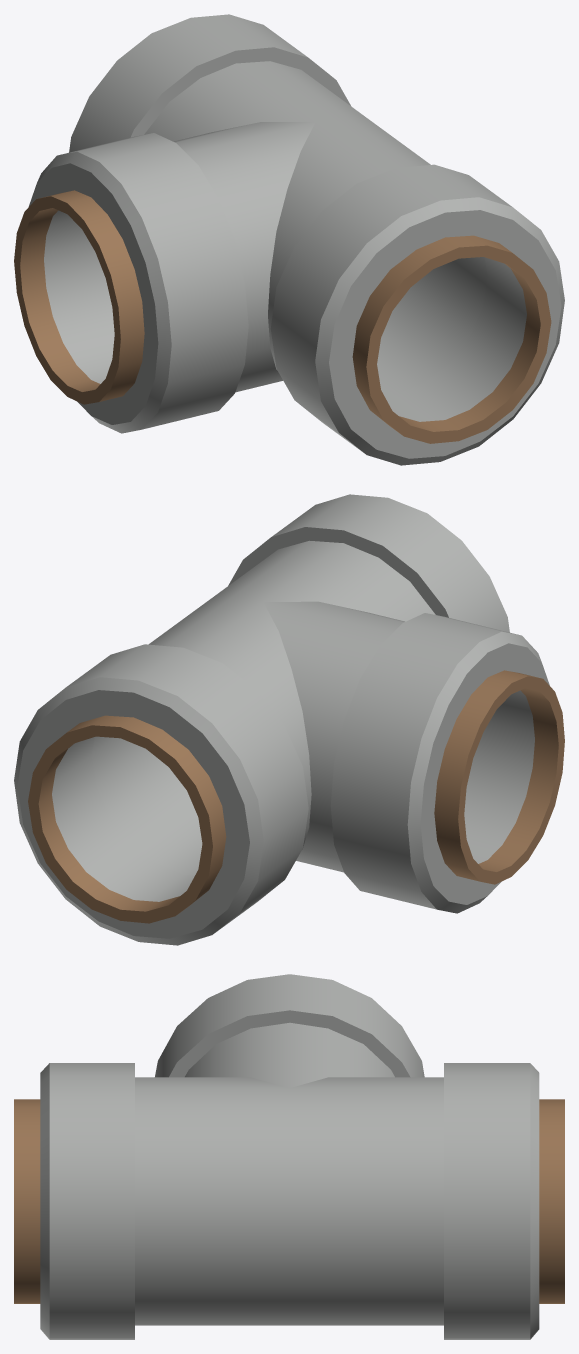
File: pipes_supply__water_heater__bcce1270.glb
The picture shows the model from 3 angles, top to bottom: view 1: azimuth 30°, elevation 25°; view 2: azimuth 150°, elevation 25°; view 3: azimuth 270°, elevation 25°; orthographic projection. The views are drawn at different scales.
Parts seen in each view (by area): view 1: fit_tee_pipe_supply_hot_wh_attic__galvanized; view 2: fit_tee_pipe_supply_hot_wh_attic__galvanized; view 3: fit_tee_pipe_supply_hot_wh_attic__galvanized.
Part boxes in pixels (x1,y1,x2,y2): fit_tee_pipe_supply_hot_wh_attic__galvanized: [14, 14, 564, 465]; fit_tee_pipe_supply_hot_wh_attic__galvanized: [14, 494, 564, 945]; fit_tee_pipe_supply_hot_wh_attic__galvanized: [14, 974, 564, 1339].
Bounding box in the file's own units: 0.0555 × 0.0372 × 0.0739.
